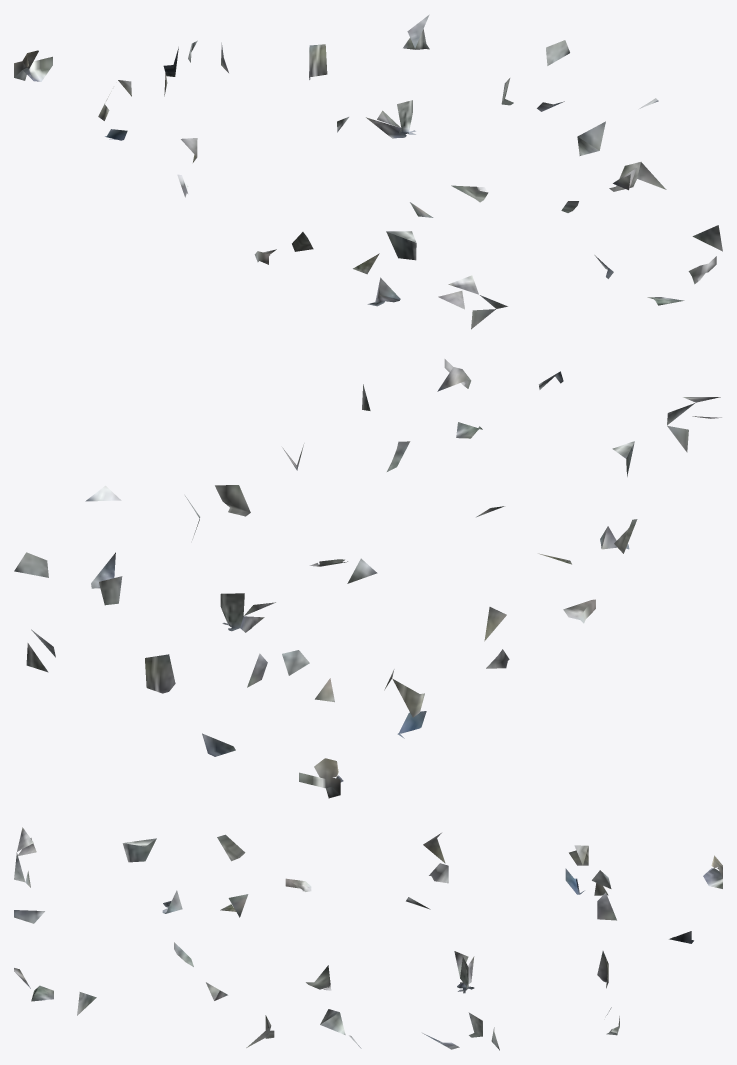
3 views of the same model, one above another, from view 1: azimuth 30°, elevation 25°; view 2: azimuth 150°, elevation 25°; view 3: azimuth 270°, elevation 25° (orthographic). The views are drawn at different scales.
Visible parts, largest first — view 1: 30436272704361517725_1; view 2: 30436272704361517725_1; view 3: 30436272704361517725_1.
Part boxes in pixels (bbox=[...]): 30436272704361517725_1: bbox=[14, 14, 722, 329]; 30436272704361517725_1: bbox=[14, 359, 721, 798]; 30436272704361517725_1: bbox=[14, 827, 722, 1050].
Bounding box in the file's own units: 24.4 × 4.62 × 38.26.
1 material, 1 textured.
